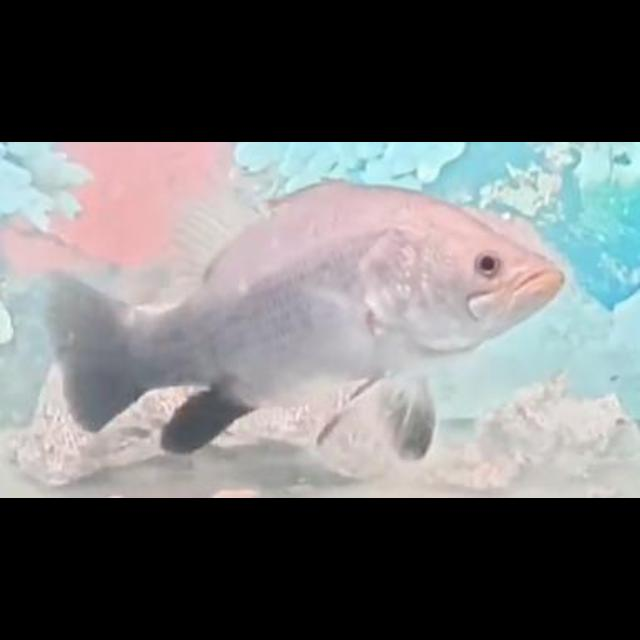Seabass: (47, 178, 565, 454)
